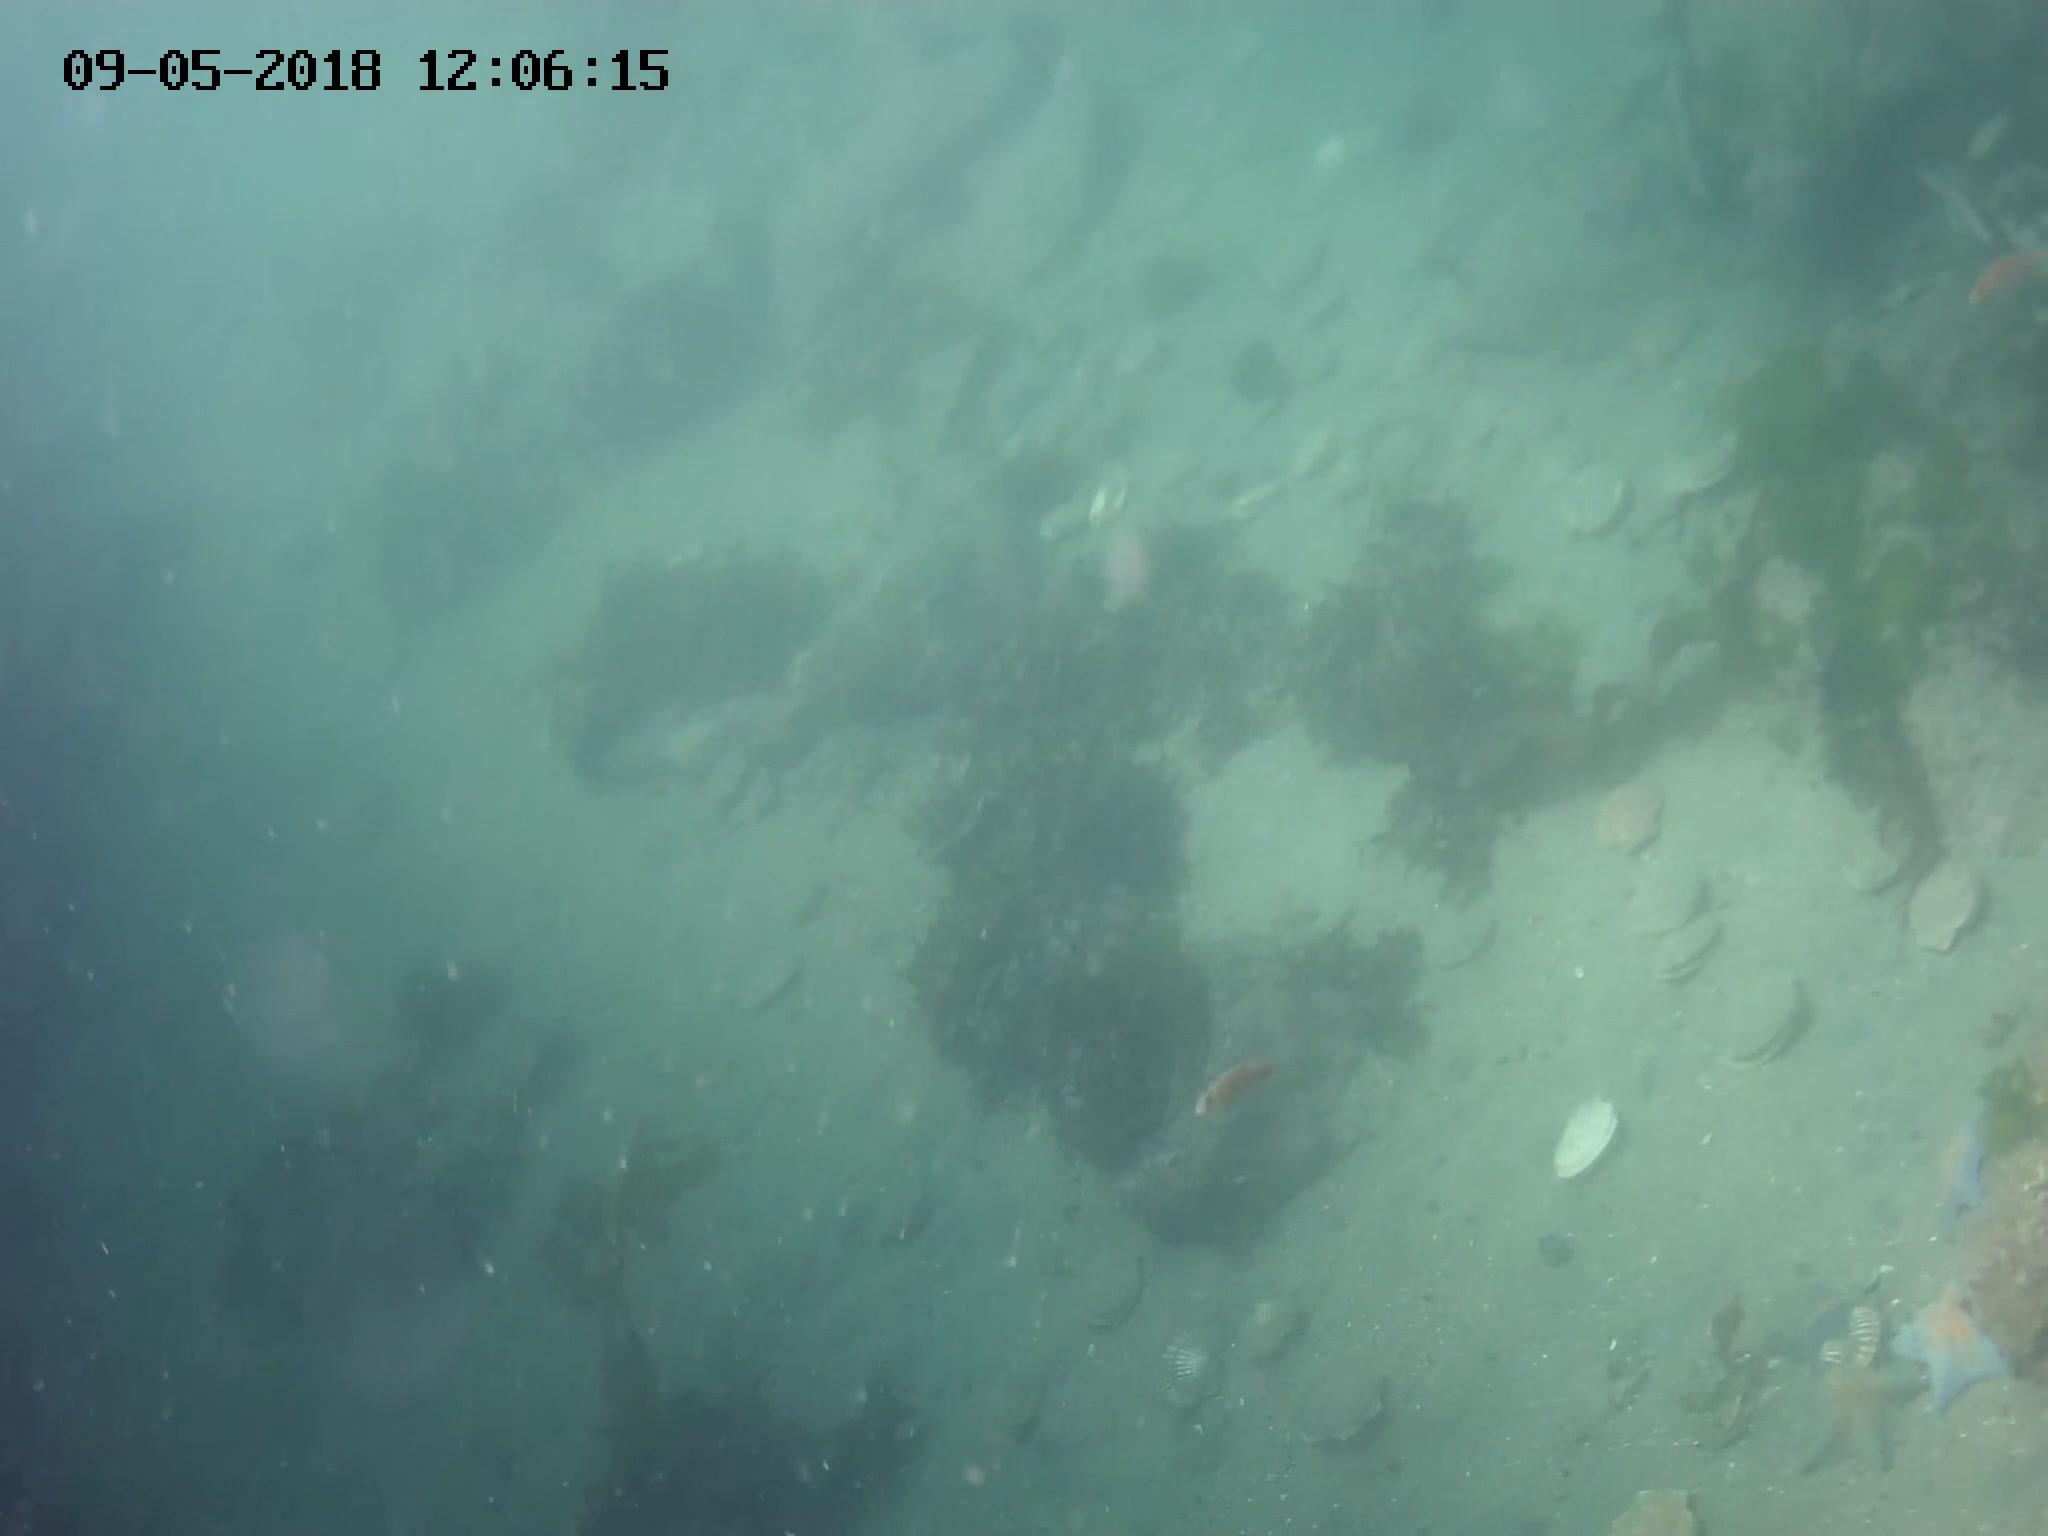scallop: (1292, 1367, 1397, 1455), (1722, 973, 1813, 1073), (1548, 1094, 1629, 1200), (1906, 863, 1990, 962), (1155, 1333, 1235, 1418), (1069, 1249, 1150, 1329), (1808, 1297, 1884, 1383), (1421, 907, 1511, 976), (1593, 779, 1671, 860), (1621, 307, 1706, 378), (1671, 432, 1759, 499), (1698, 1370, 1767, 1454), (1609, 1480, 1708, 1536), (1555, 466, 1629, 541), (1621, 873, 1713, 933), (1230, 1297, 1306, 1363), (1650, 920, 1724, 986), (1256, 240, 1335, 294), (739, 954, 805, 1016), (868, 1189, 934, 1250), (1837, 850, 1916, 900), (1372, 421, 1432, 481), (1288, 282, 1353, 337), (780, 876, 830, 936), (1087, 471, 1134, 532), (1030, 502, 1097, 544), (1109, 331, 1163, 382), (1287, 429, 1337, 481), (1322, 452, 1371, 503)
starfish: (1893, 1276, 2027, 1418), (1792, 1362, 1921, 1483), (1927, 1110, 2006, 1242)
